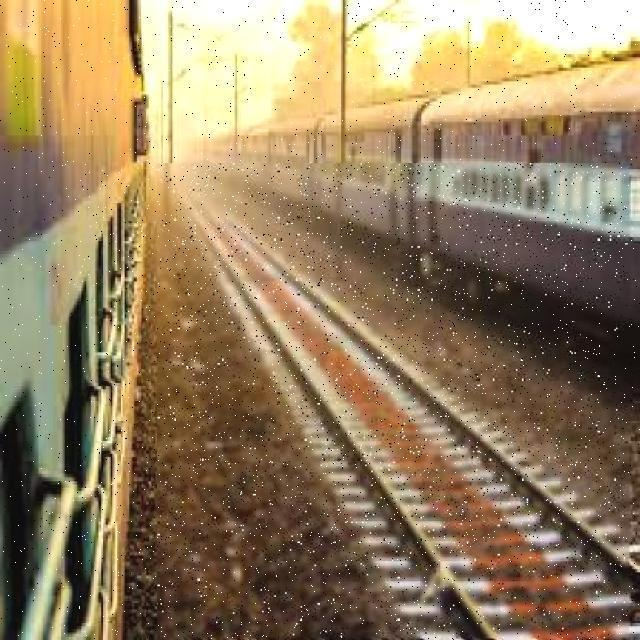rail: (157, 164, 627, 640)
